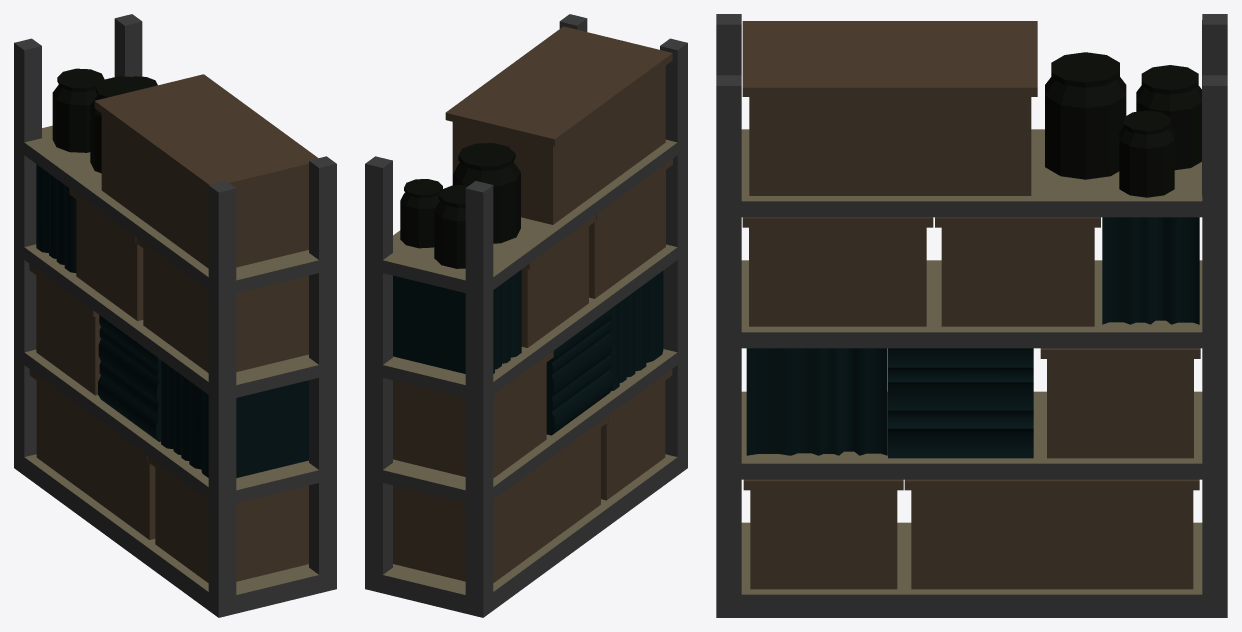
File: shelf_v6_dressed.obj
3 renders of one model, left to right at view 1: azimuth 30°, elevation 25°; view 2: azimuth 150°, elevation 25°; view 3: azimuth 270°, elevation 25°, orthographic. The views are drawn at different scales.
Parts seen in each view (by area): view 1: shelf_v6_comb_dressed_1; view 2: shelf_v6_comb_dressed_1; view 3: shelf_v6_comb_dressed_1.
Part boxes in pixels (<box>): shelf_v6_comb_dressed_1: <box>14,14,336,617</box>; shelf_v6_comb_dressed_1: <box>365,14,687,617</box>; shelf_v6_comb_dressed_1: <box>716,14,1227,617</box>.
Size of the model in its own units: 4 by 13.76 by 12.
